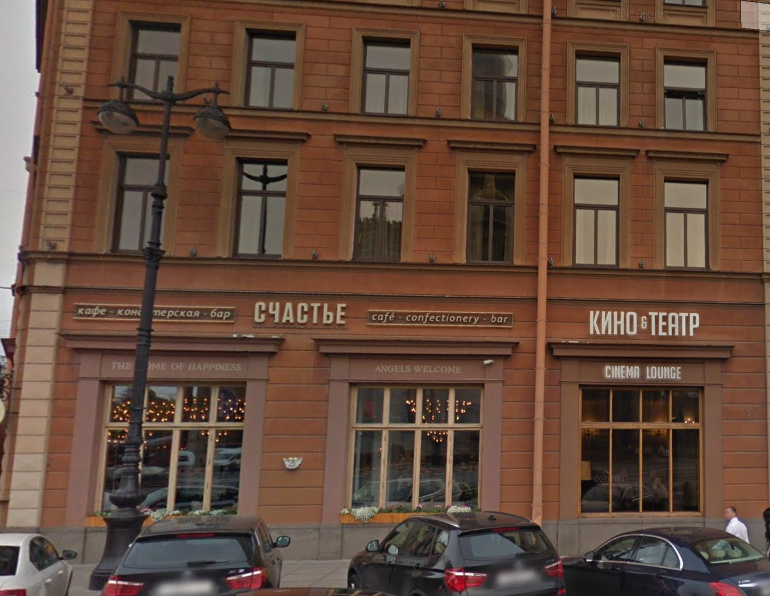signboard: (74, 297, 240, 324), (589, 308, 702, 342), (363, 307, 516, 328), (252, 297, 350, 327), (601, 363, 689, 379)
window: (105, 381, 240, 513), (575, 389, 700, 516), (351, 386, 476, 513), (356, 159, 411, 268), (461, 165, 519, 266), (232, 156, 286, 258), (114, 151, 165, 259), (661, 174, 713, 270), (572, 173, 623, 270), (571, 48, 626, 131), (657, 51, 712, 133), (470, 44, 521, 125), (249, 28, 299, 108), (361, 43, 413, 116), (132, 28, 175, 99)
